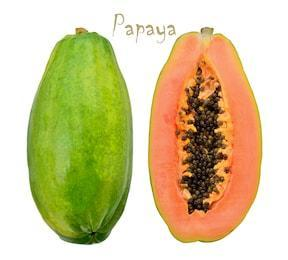papaya: (148, 27, 262, 245), (26, 27, 135, 243)
